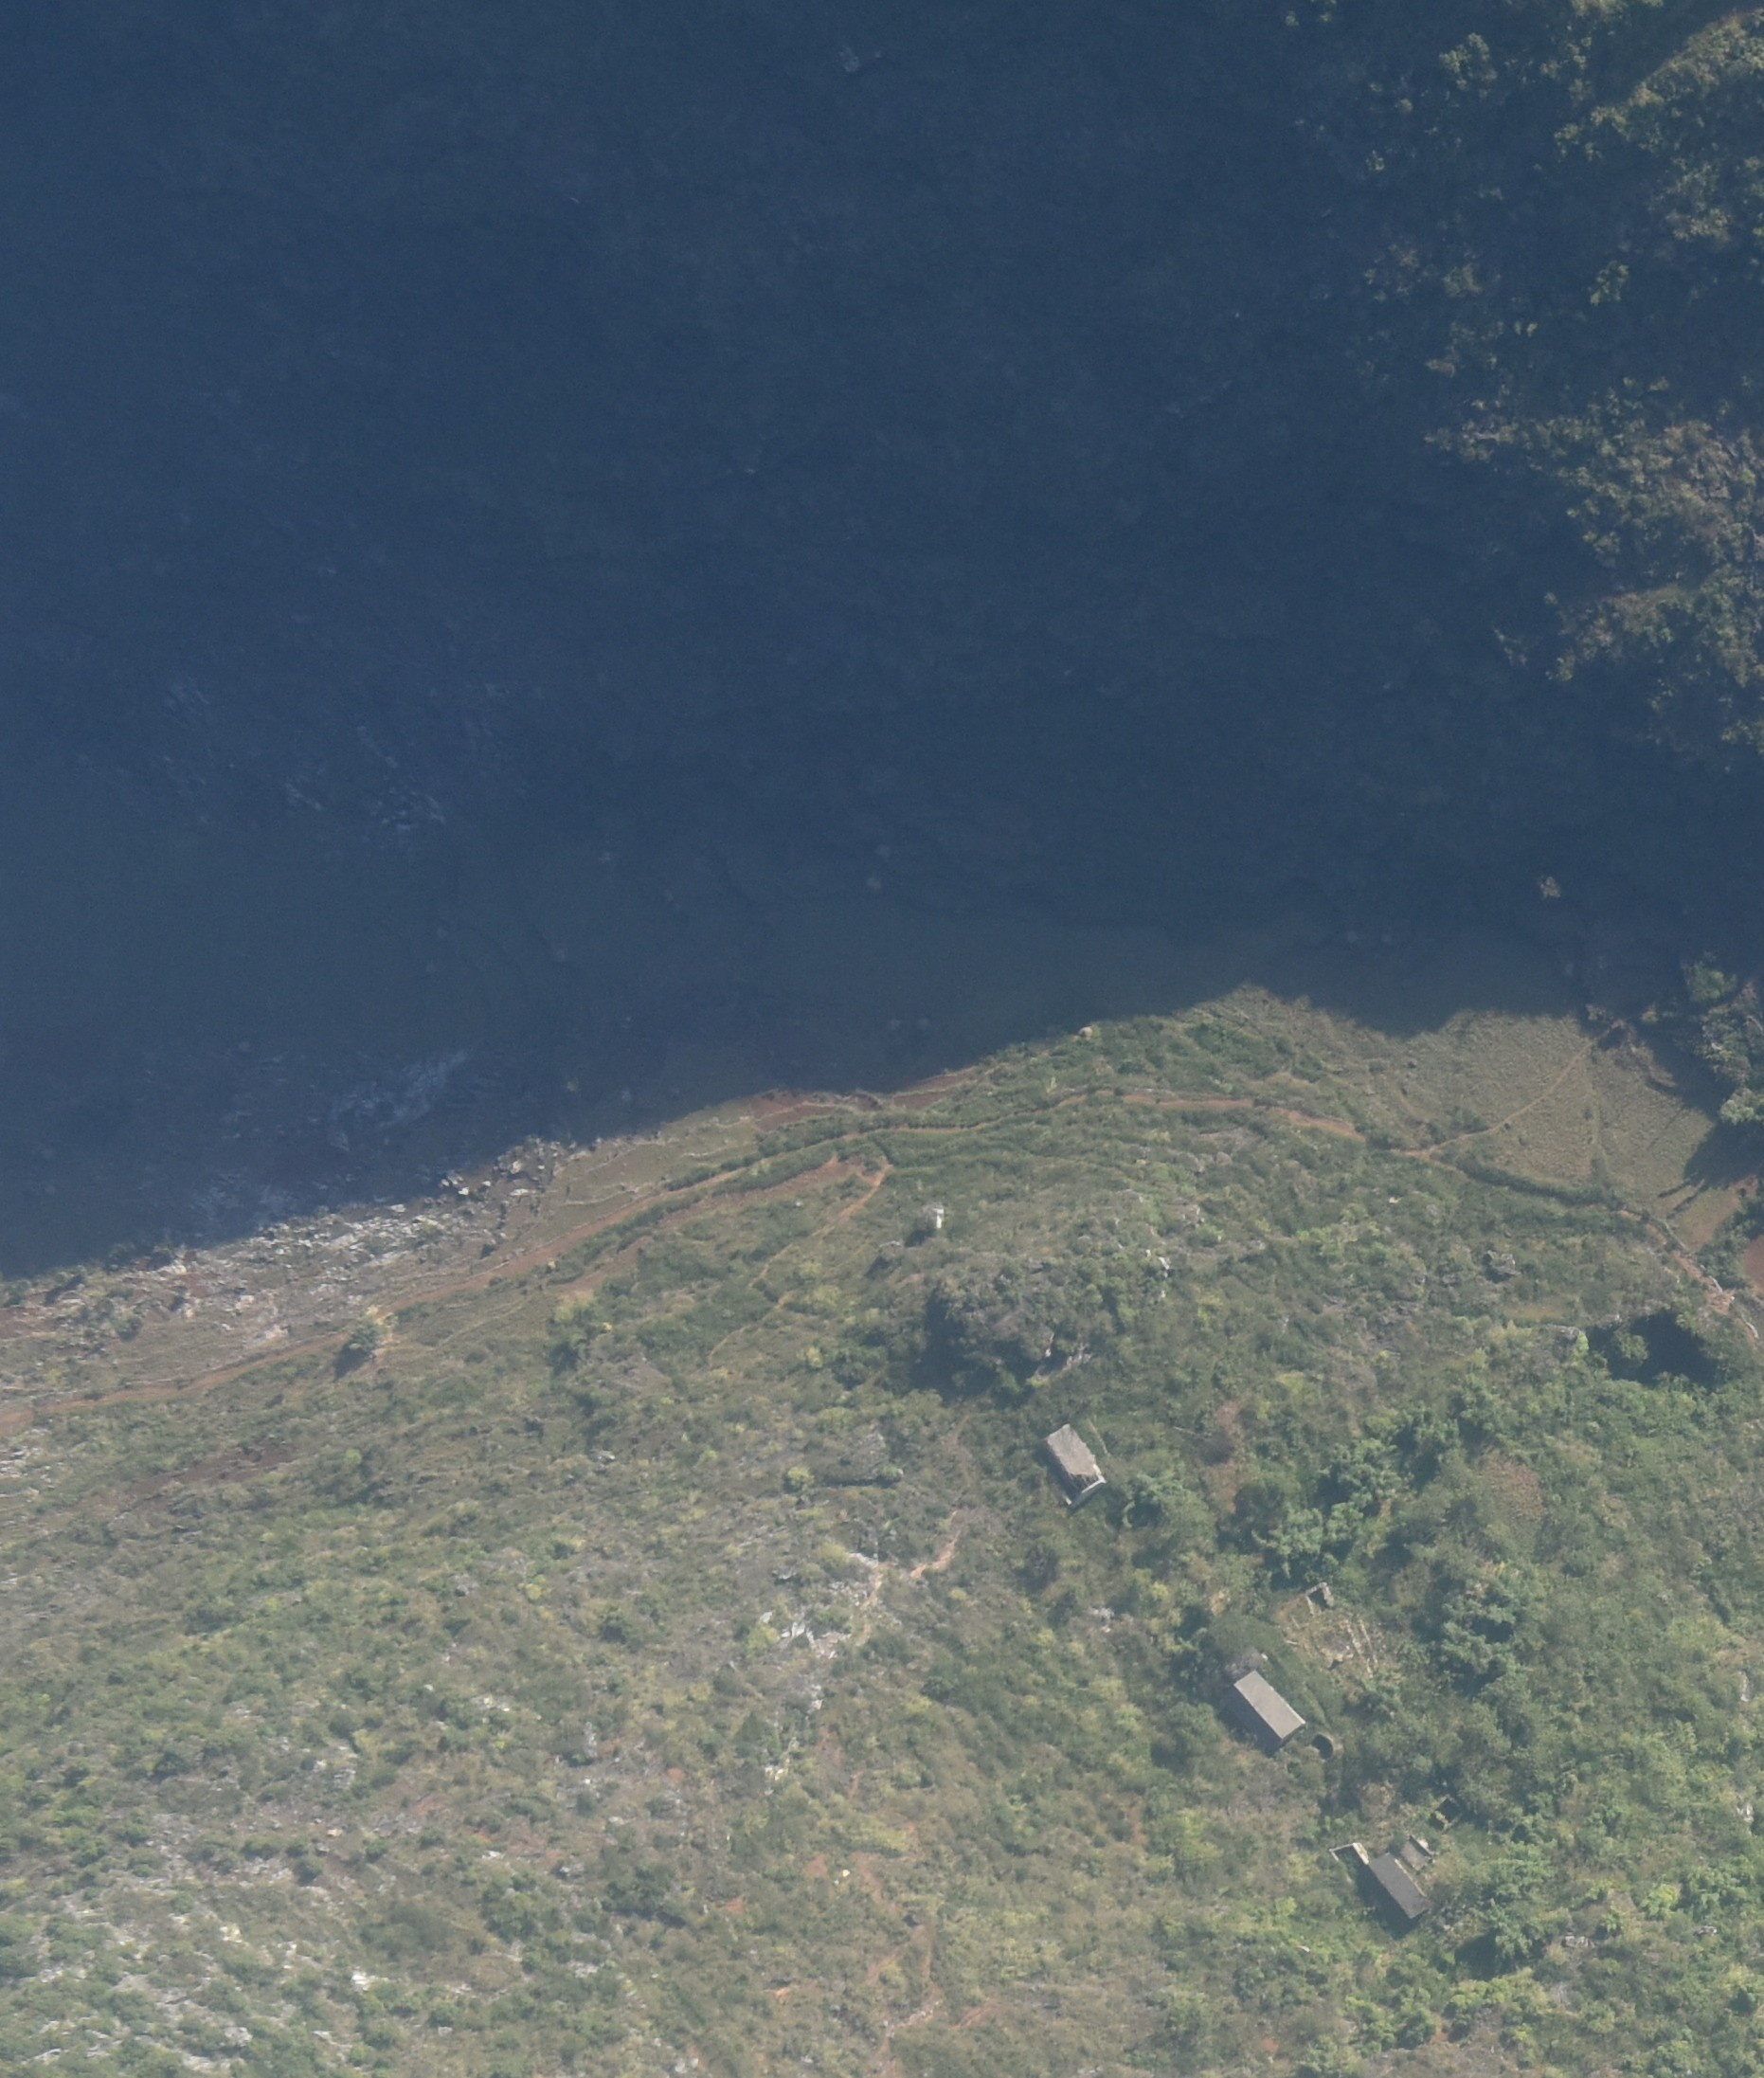building: (1232, 1671, 1304, 1742), (1047, 1424, 1105, 1507), (1368, 1852, 1430, 1922)
